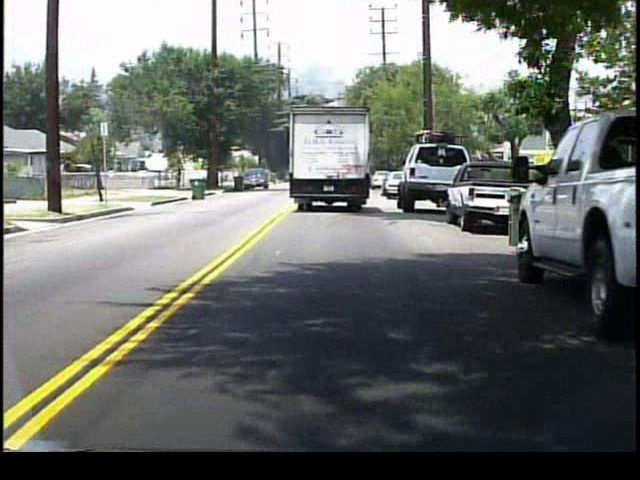person: (176, 165, 186, 190)
